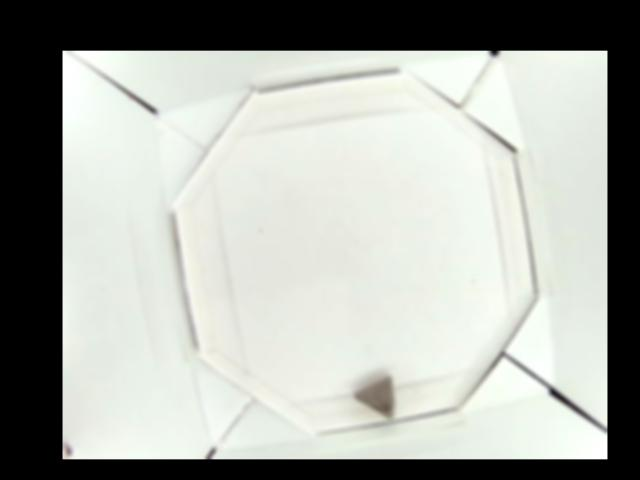China: (352, 374, 396, 421)
